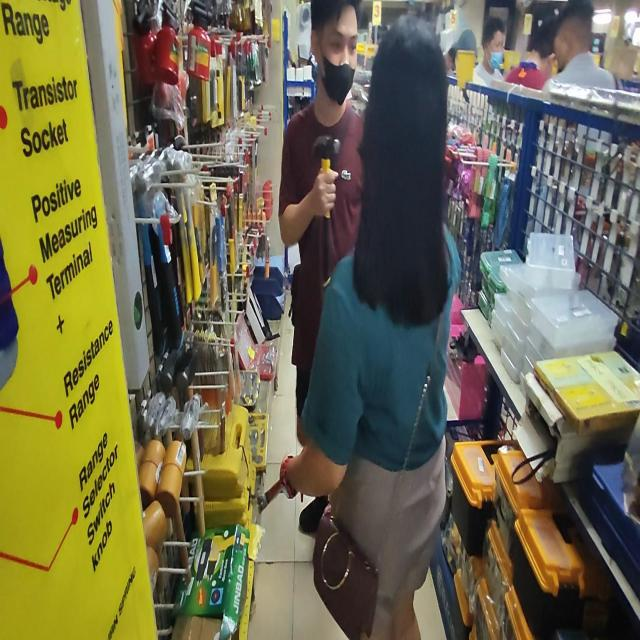hammer: (312, 135, 340, 288), (257, 481, 283, 516)
